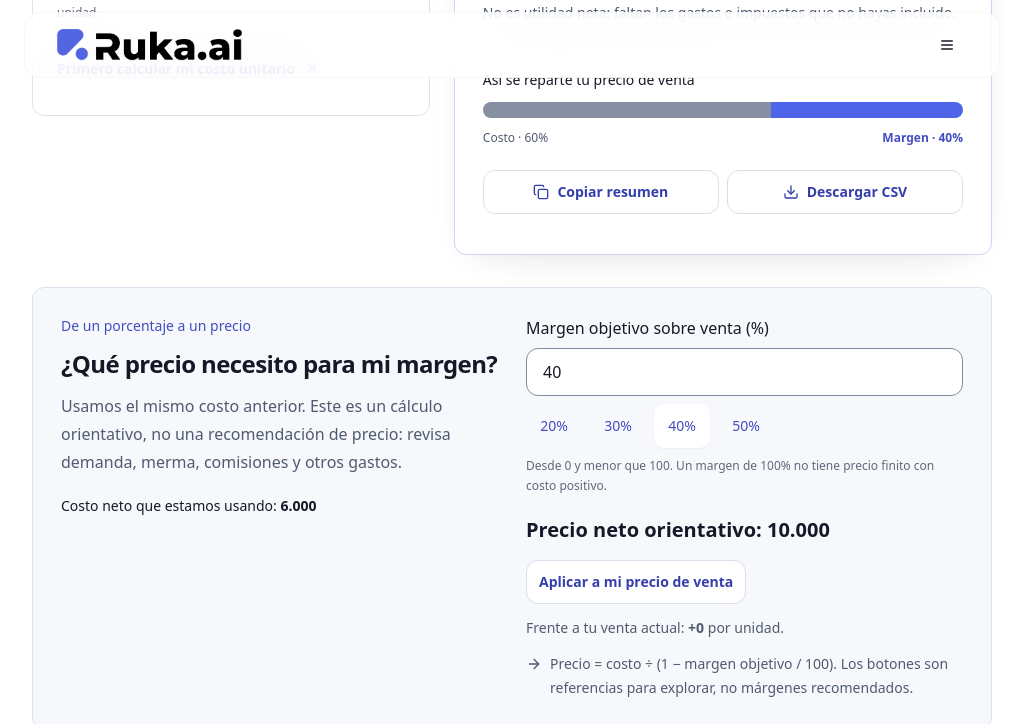
Scenario: final tool workspace › does not apply an unreachable price or download incomplete margin data
(page scrolled)
Replace the text in the field labelled "Margen objetivo sobre venta (%)" with "100" at (744, 372), box [526,348,963,396]
(page scrolled)
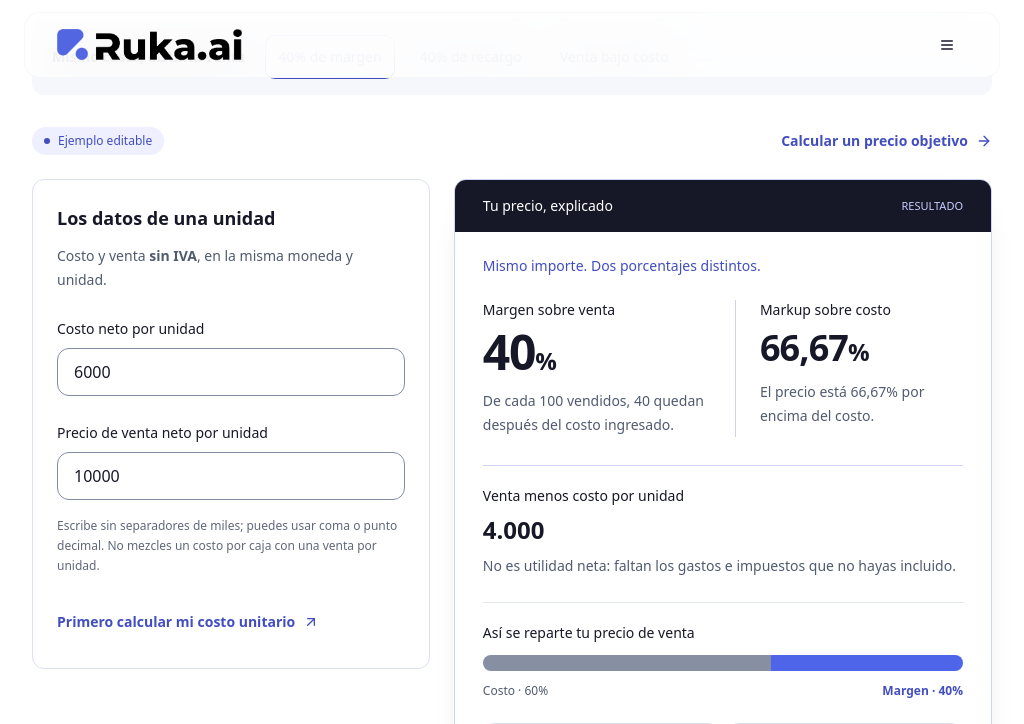
Expected: the button "Aplicar a mi precio de venta" is not shown
Clear the field labelled "Costo neto por unidad" at (231, 372), box [57,348,405,396]
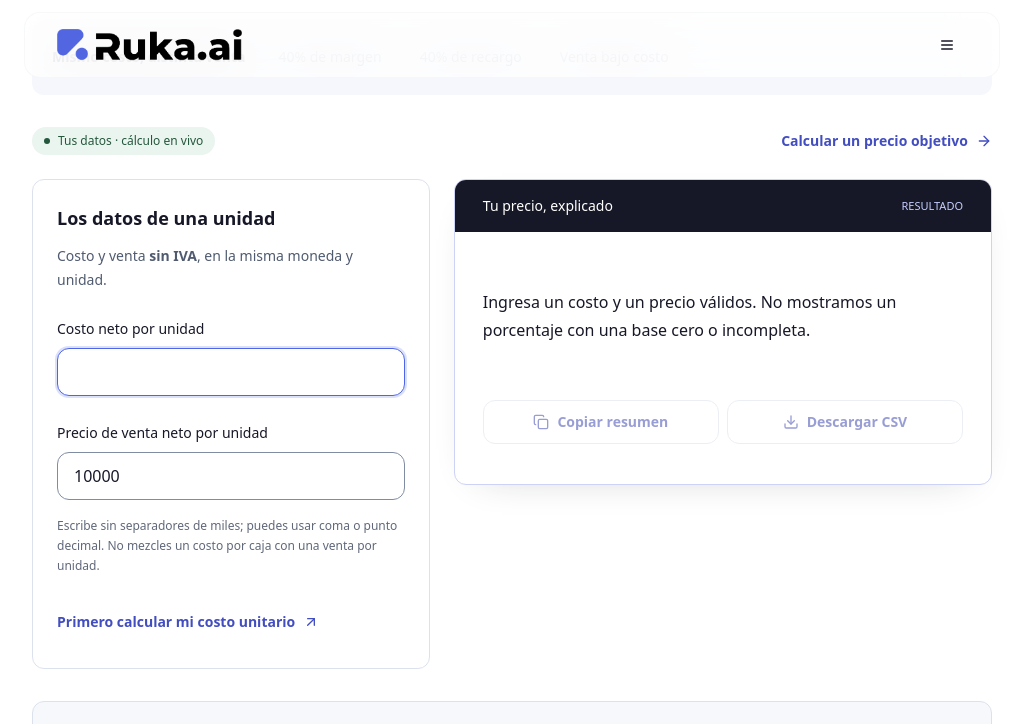
Expected: the button "Descargar CSV" is disabled, [727,400,963,444]
